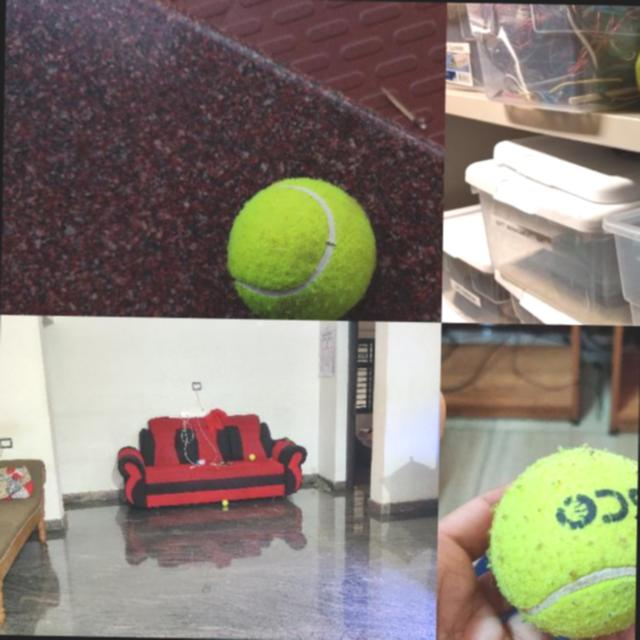tennis-ball: (486, 442, 636, 640), (225, 175, 378, 320), (633, 29, 640, 112), (248, 453, 254, 459), (221, 500, 227, 506)
